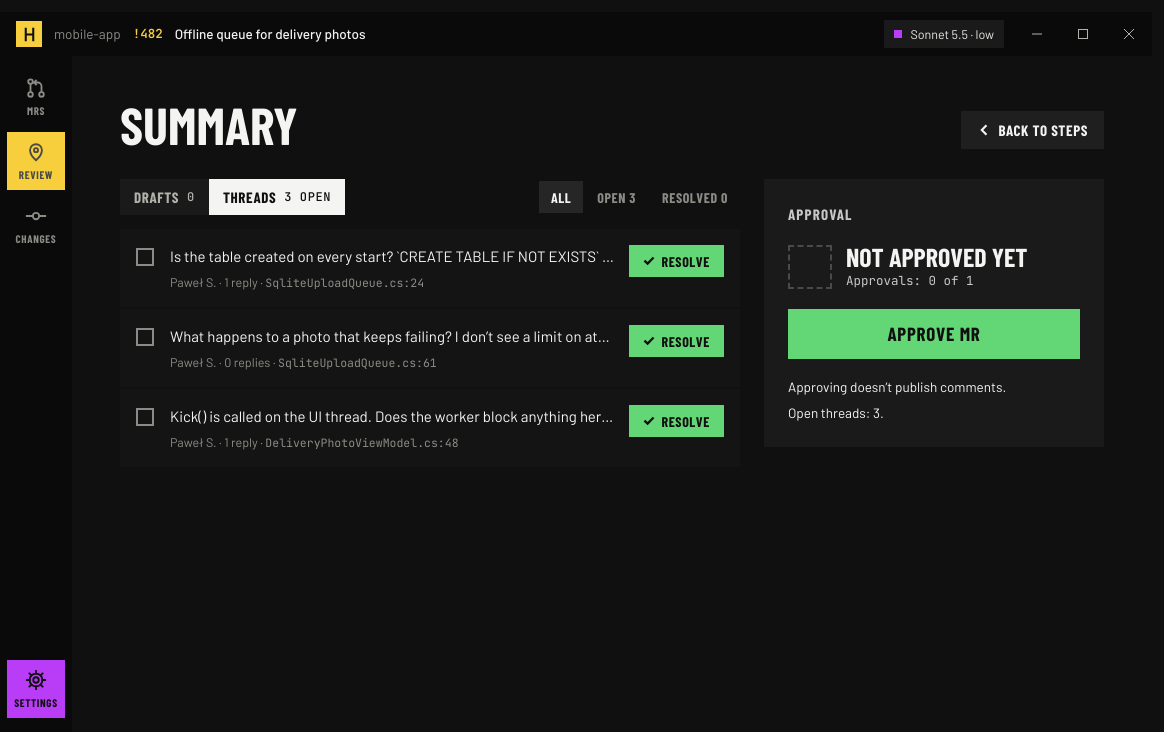
Test: S-05 Approval tile notes (F-14.3) › F-14.3 approved with no drafts keeps "Approving doesn’t publish comments."
The width and height of the screenshot is (1164, 732).
Check: the element named "Comments" is shown, box [120, 179, 345, 215]
Click the button "Approve MR": (934, 334) [788, 309, 1080, 359]
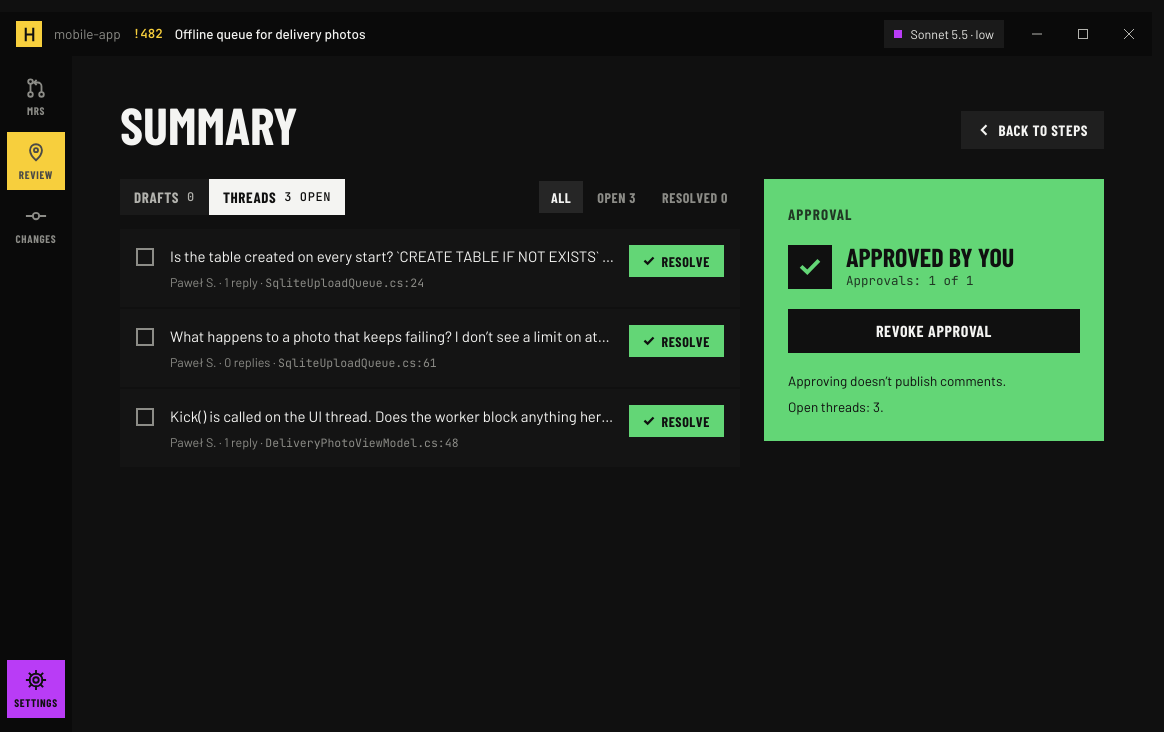
Check: the text "Approving doesn’t publish comments." is shown, box [788, 372, 1006, 389]
Check: the text "Approved by you" is shown, box [846, 244, 1014, 270]
